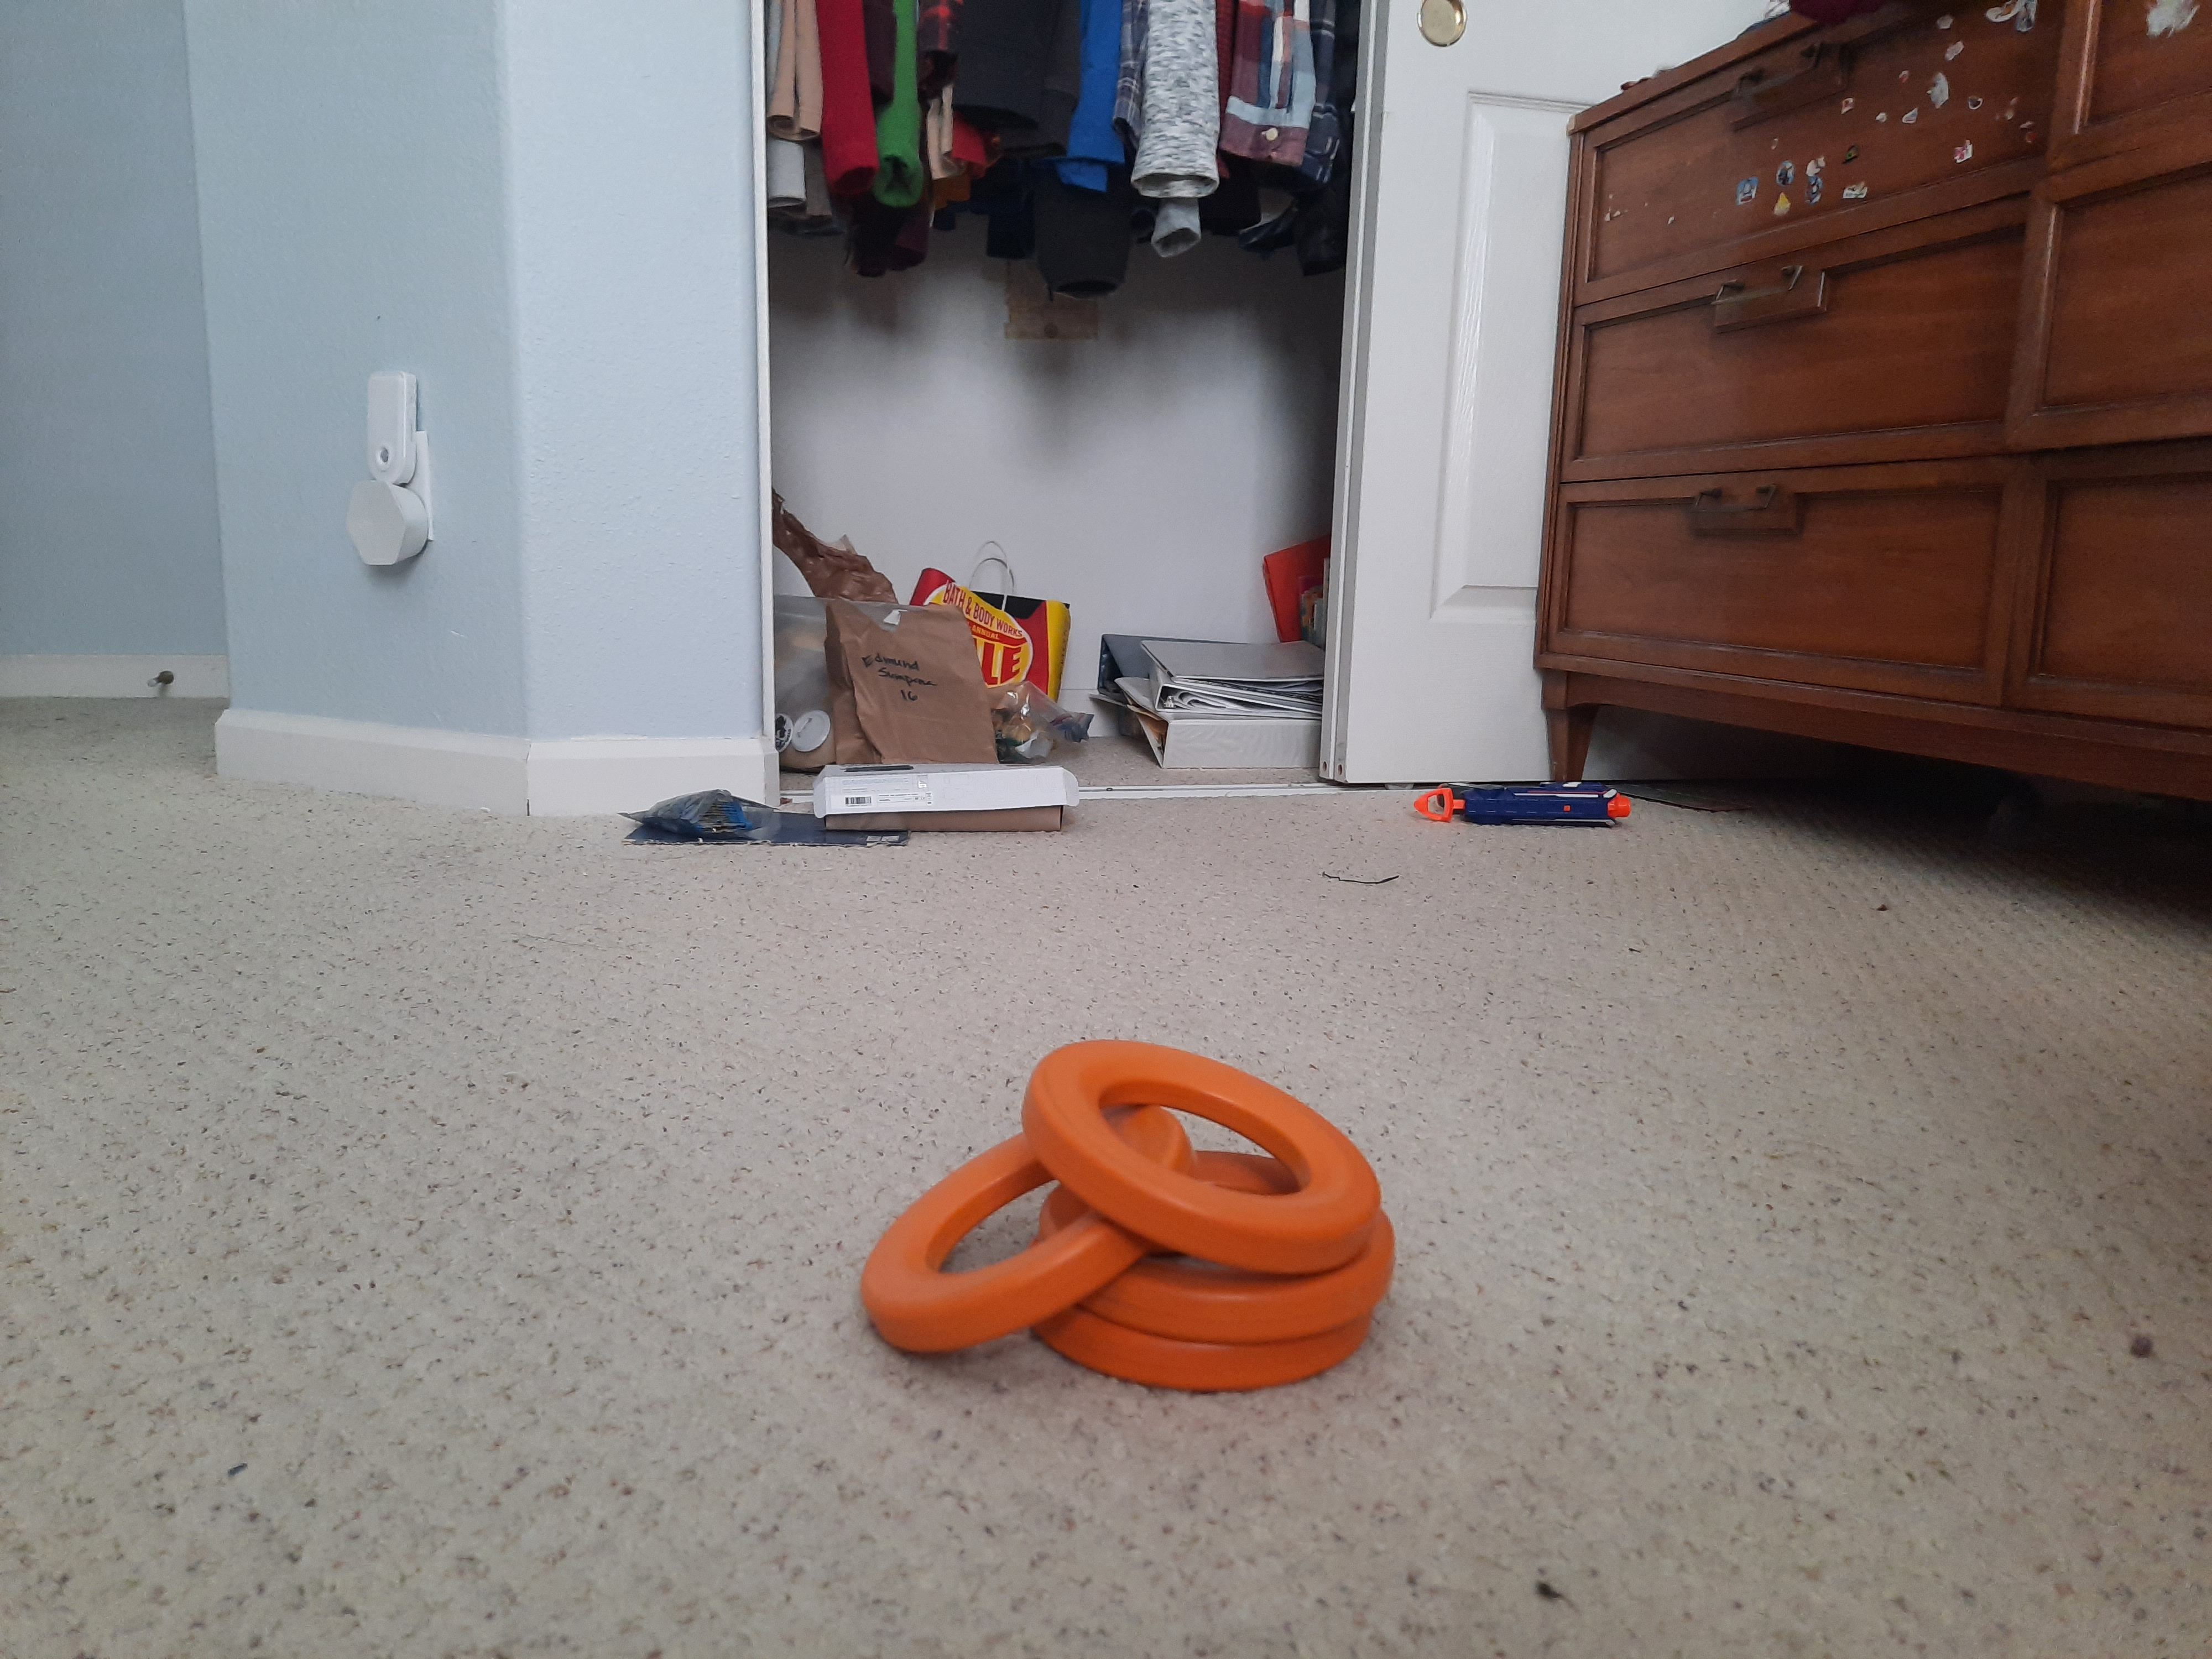FourStack: (848, 1040, 1390, 1396)
